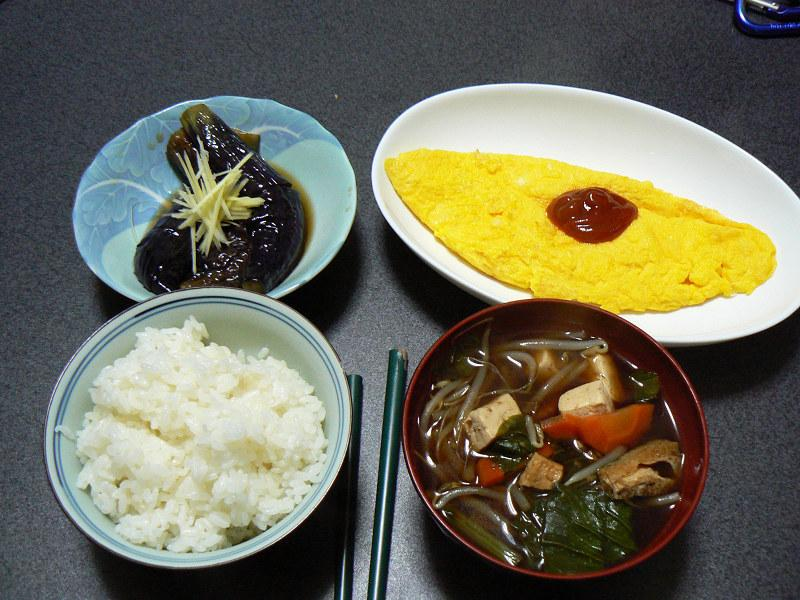plate: (72, 96, 356, 300)
rice: (76, 318, 326, 552)
